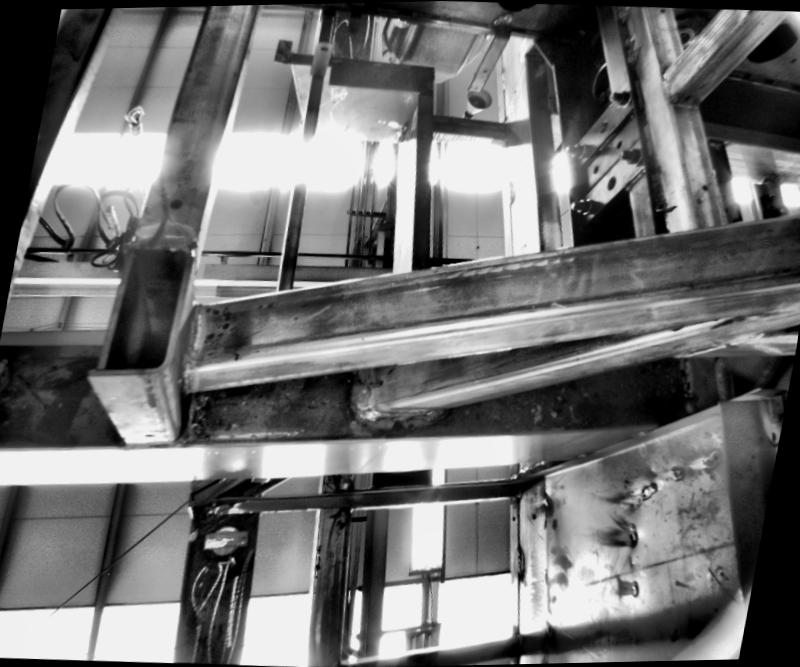bolt: (605, 82, 634, 105), (616, 146, 648, 164), (566, 194, 594, 212), (562, 140, 586, 155)
bracket: (552, 74, 668, 226), (470, 6, 514, 92), (310, 26, 332, 75)
hole: (164, 191, 186, 209), (370, 376, 387, 388), (598, 116, 612, 130), (605, 175, 617, 191), (142, 430, 153, 439), (591, 162, 600, 172), (616, 137, 624, 147), (702, 182, 710, 190), (318, 42, 328, 48), (520, 240, 528, 246), (481, 66, 488, 72), (530, 512, 537, 518), (472, 82, 478, 88), (511, 514, 514, 519), (512, 88, 515, 92)
welding: (350, 402, 444, 423), (181, 302, 205, 366), (352, 365, 382, 416), (510, 544, 526, 577), (496, 66, 509, 88), (492, 11, 514, 20)
